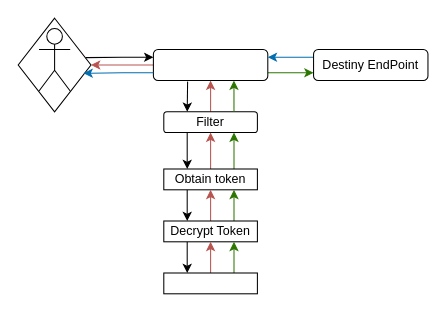
The diagram is 446 pixels wide and 312 high, and some of its shapes have lost their labels. Here are the shapes that lost their labels. From the top down, the centre of each, then its label:
point 210,64: GateWay
point 210,283: Read info
